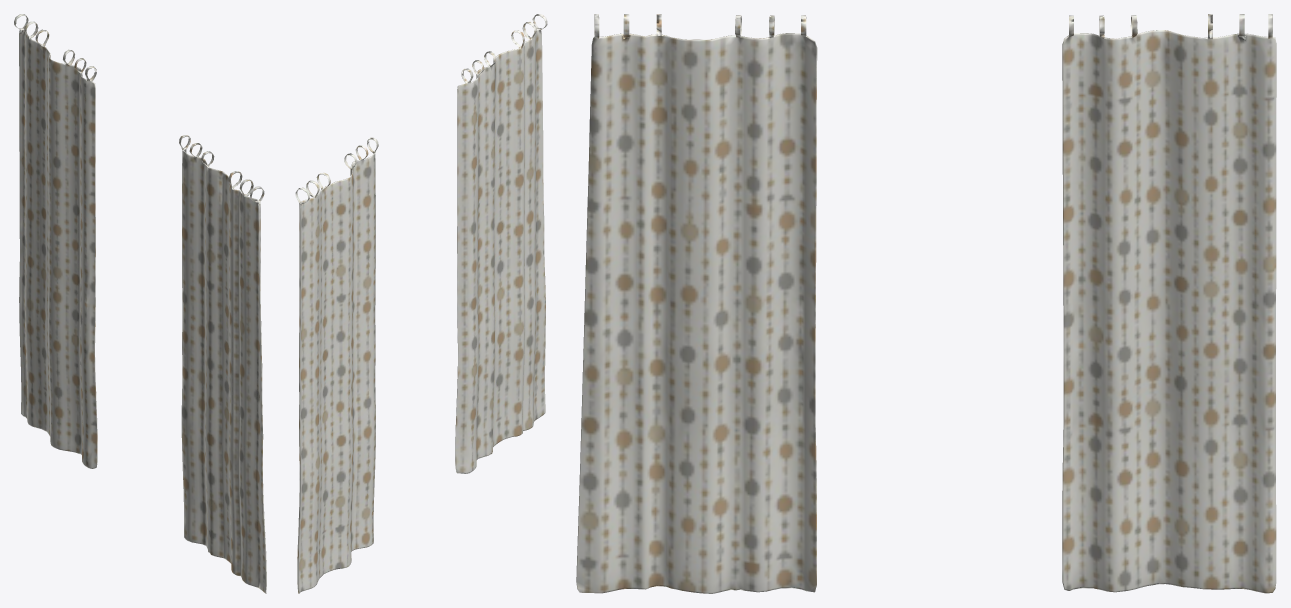
Rendered from CurtainsNew.fbx.
The picture shows the model from 3 angles, left to right: view 1: azimuth 30°, elevation 25°; view 2: azimuth 150°, elevation 25°; view 3: azimuth 270°, elevation 25°; orthographic projection. The views are drawn at different scales.
Visible parts, largest first — view 1: CurtainL.001, CurtainR.001; view 2: CurtainL.001, CurtainR.001; view 3: CurtainL.001, CurtainR.001.
Boxes of the visible parts, x1=… form: CurtainL.001: x1=179, y1=135, x2=266, y2=593; CurtainR.001: x1=14, y1=14, x2=97, y2=468; CurtainL.001: x1=455, y1=14, x2=547, y2=473; CurtainR.001: x1=295, y1=137, x2=378, y2=593; CurtainL.001: x1=576, y1=14, x2=817, y2=593; CurtainR.001: x1=1062, y1=14, x2=1276, y2=593.
Size of the model in its own units: 4.48 by 98.29 by 108.
